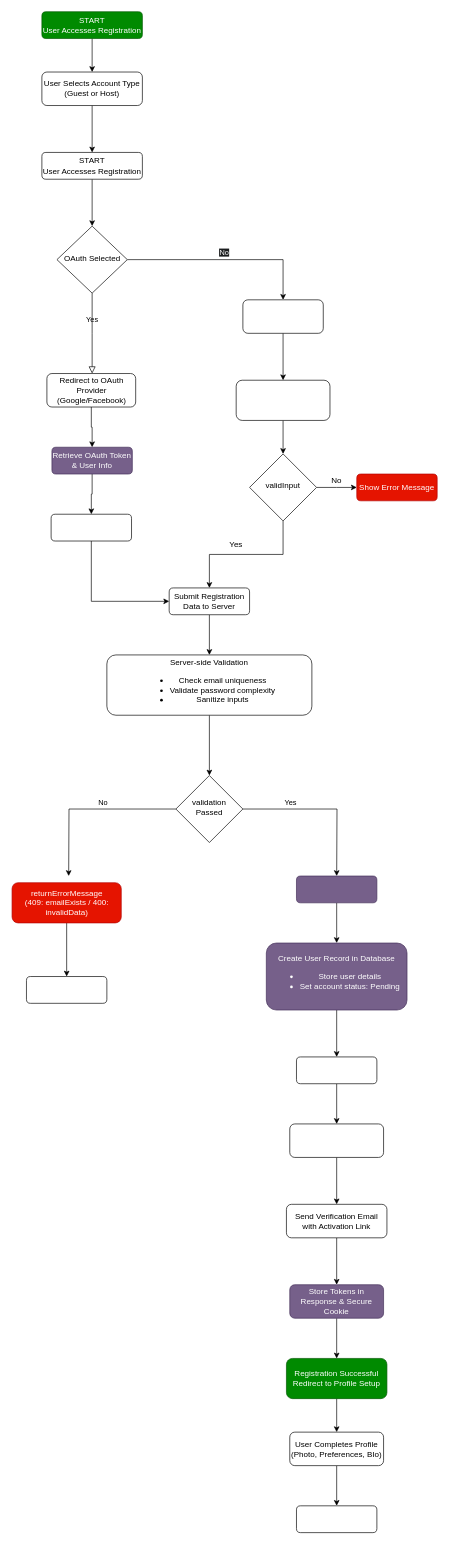
This 449x1544 diagram has some shape labels left out. Each missing label, with the centre of its shape:
"Client-Side Validation (emailFormat, passwordStrength)" belongs at (283,400).
"displayErrorToUser" belongs at (66,989).
"END User Account Created" belongs at (336,1519).
"Generate Email Verification Taken (Expires in 24hours)" belongs at (336,1140).
"Generate JWT Token & Refresh Token" belongs at (336,1070).
"hashPassword (bcrypt/argon2)" belongs at (336,889).
"User Fills Registration Form (Manual Entry)" belongs at (282,316).
"Valide OAuth Response" belongs at (91,527).
